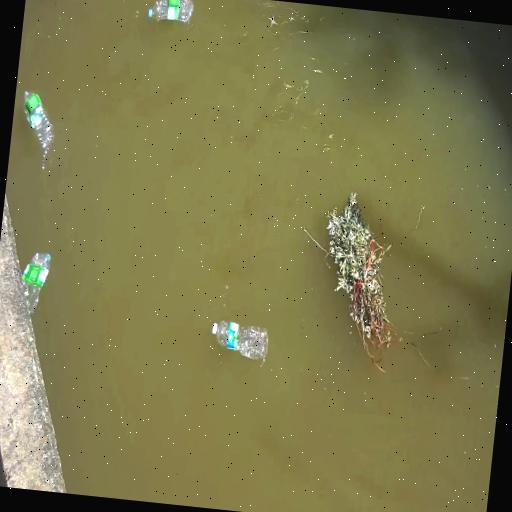plastic: (23, 92, 52, 168), (212, 321, 267, 360), (21, 253, 50, 315), (148, 0, 193, 22), (212, 323, 217, 334)
twig: (325, 192, 392, 352)
